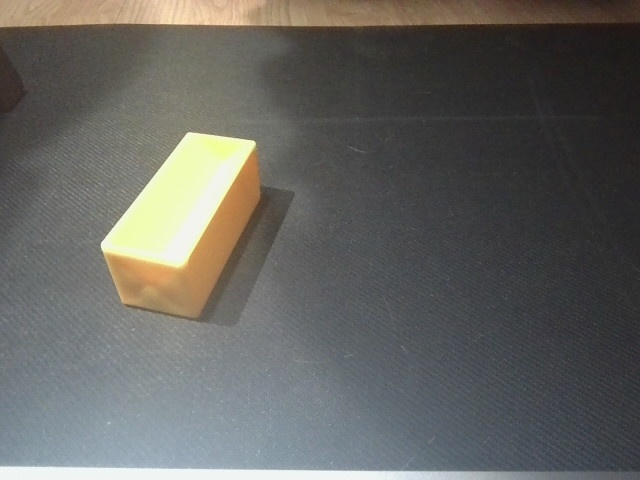YellowSample: (95, 128, 266, 322)
